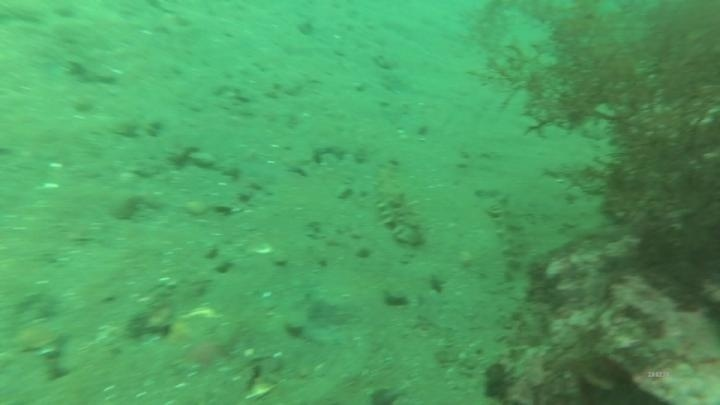holothurian: (486, 189, 541, 304), (370, 158, 429, 251)
